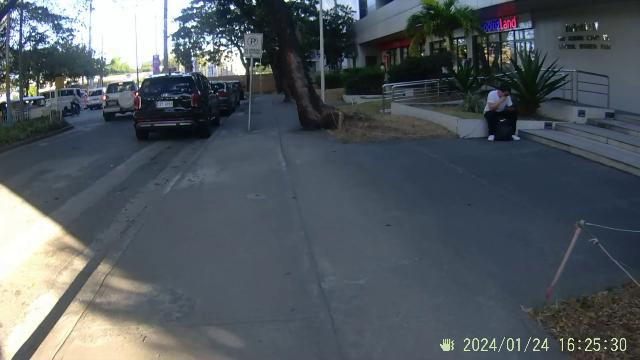street_sign: (245, 34, 259, 130)
tree: (287, 55, 333, 134)
